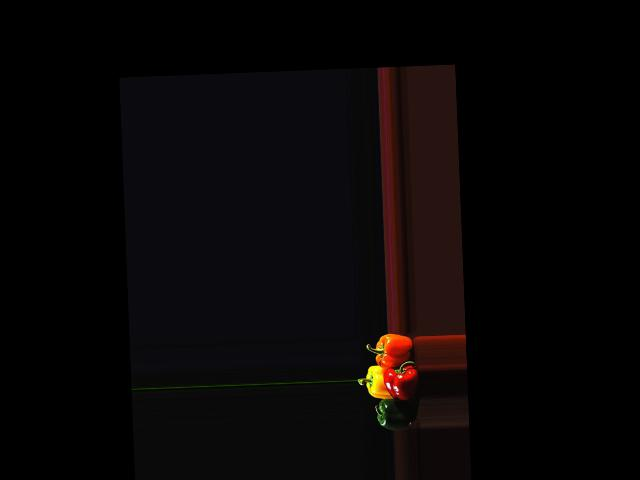bell_pepper: (370, 332, 419, 369)
